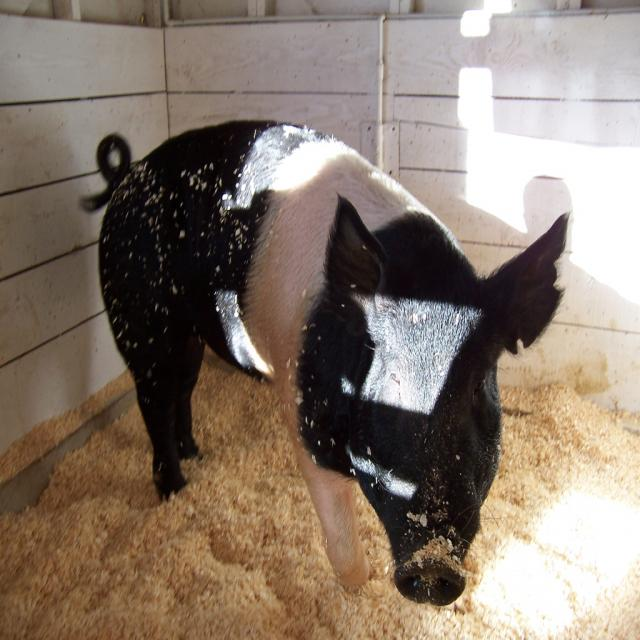Pig: (78, 118, 572, 606)
